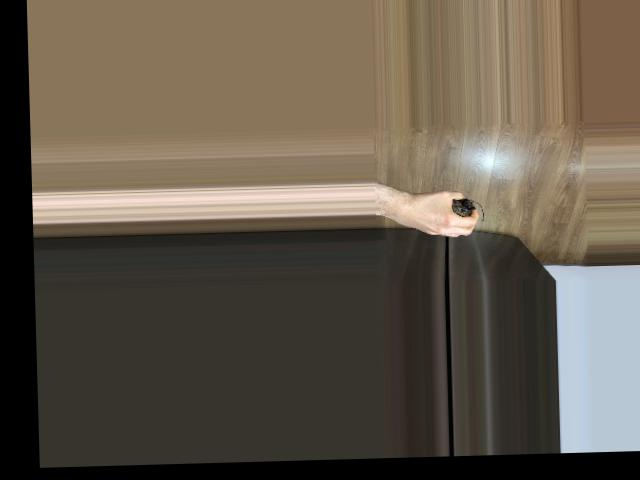beet: (452, 197, 485, 222)
